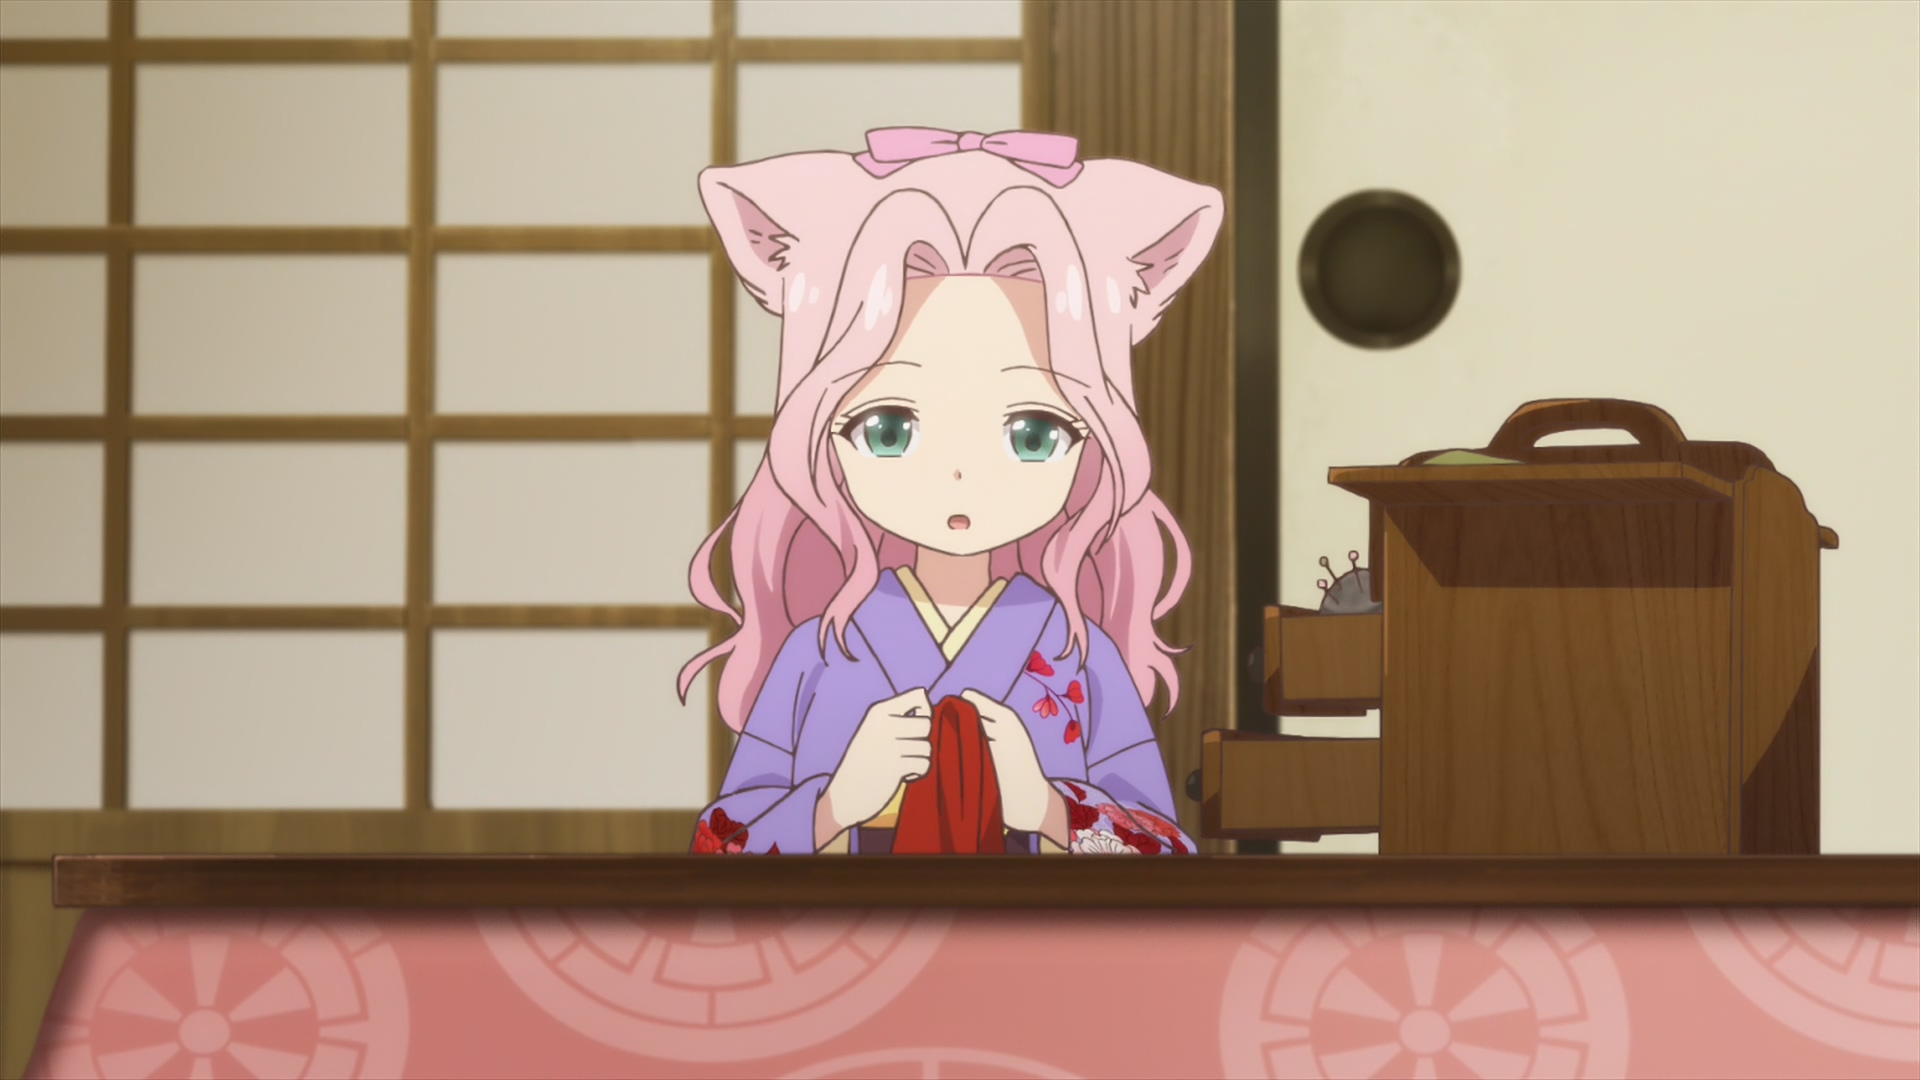莲: (679, 128, 1222, 852)
